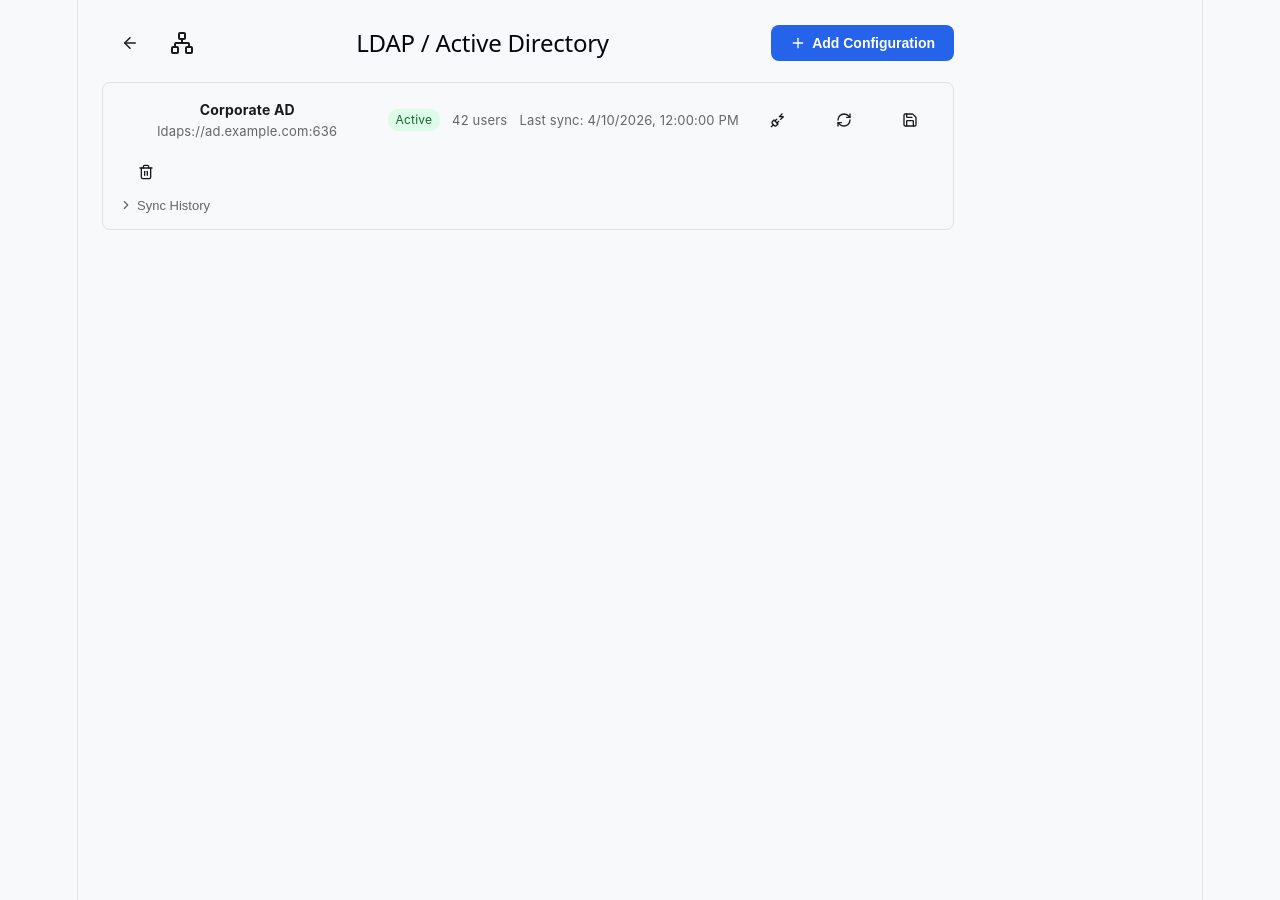
it: LdapManager › shows error details in sync log when errors exist
Click the button "Sync History" at (164, 205), box [119, 198, 210, 212]
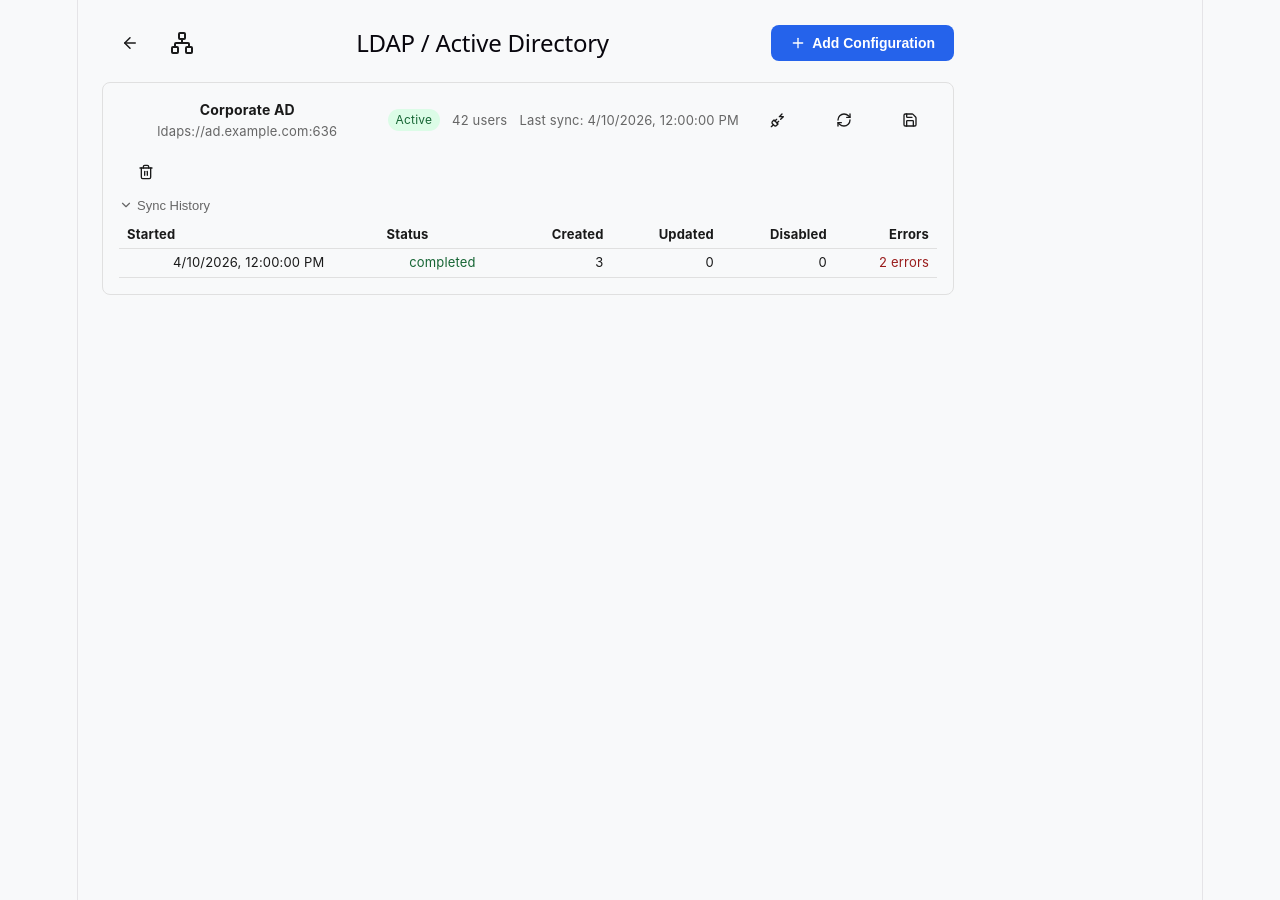
Result: the text "2 errors" is shown at [879, 254, 929, 270]
